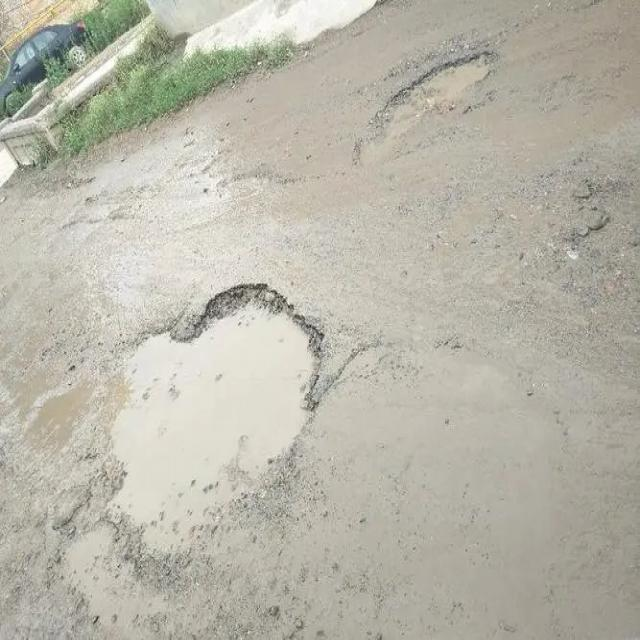Pothole: (93, 283, 326, 562), (358, 52, 486, 170)
